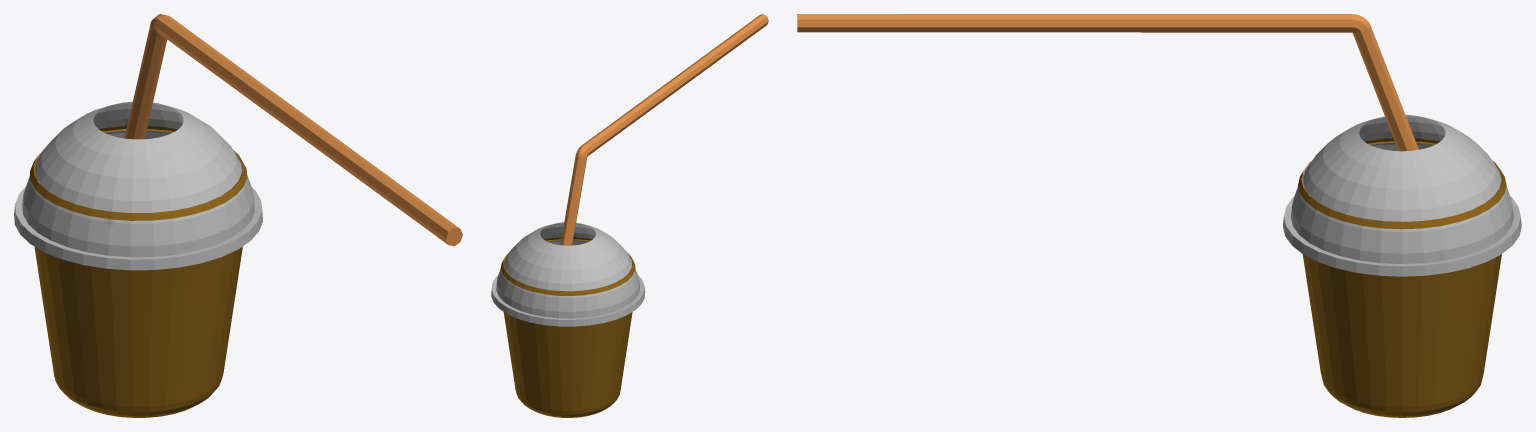
The model's file is Sniper_Turret.fbx.
3 renders of one model, left to right at view 1: azimuth 30°, elevation 25°; view 2: azimuth 150°, elevation 25°; view 3: azimuth 270°, elevation 25°, orthographic. The views are drawn at different scales.
Parts seen in each view (by area): view 1: Drink.002; view 2: Drink.002; view 3: Drink.002.
Part boxes in pixels (left/top/right/bottom): Drink.002: left=14, top=14, right=462, bottom=417; Drink.002: left=491, top=14, right=768, bottom=417; Drink.002: left=797, top=14, right=1521, bottom=417.
Size of the model in its own units: 1849 by 3203 by 5606.
1 material, 1 textured.
